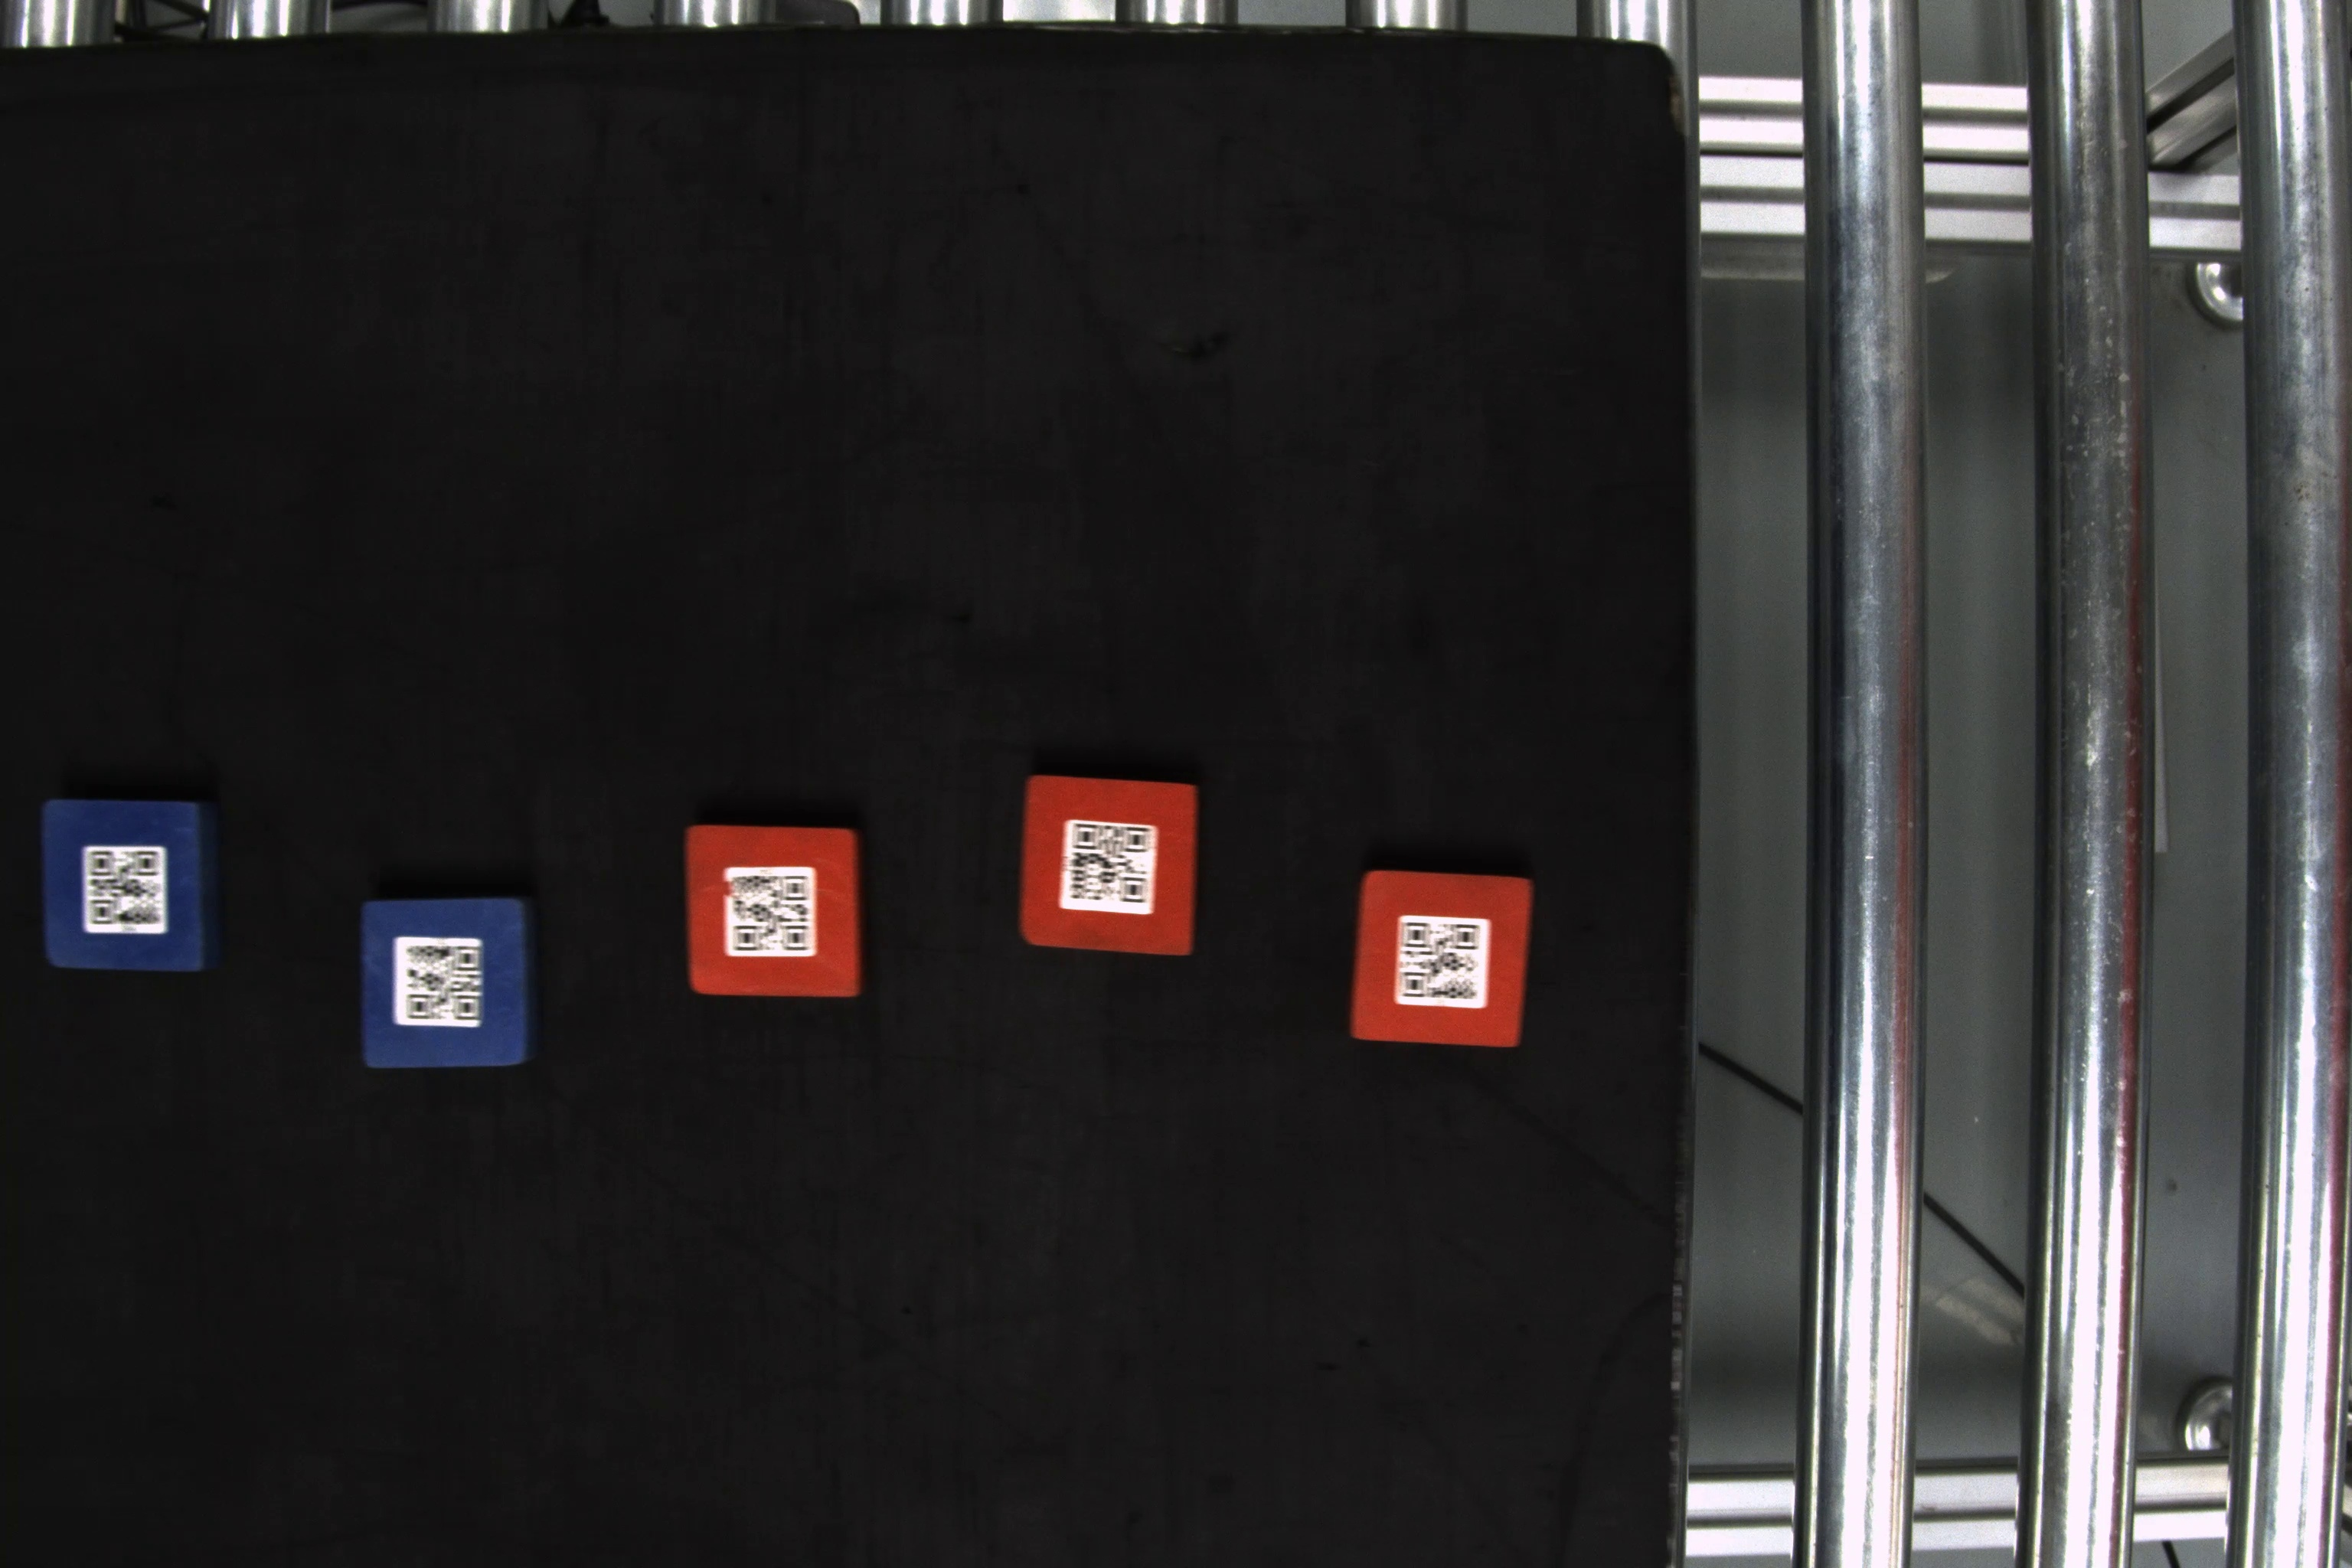wood: (1017, 763, 1204, 957), (677, 821, 870, 1004), (38, 794, 224, 982), (1358, 859, 1533, 1055), (355, 898, 546, 1069)
